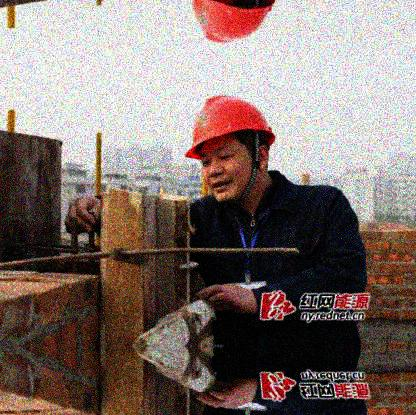helmet: (184, 93, 276, 204)
